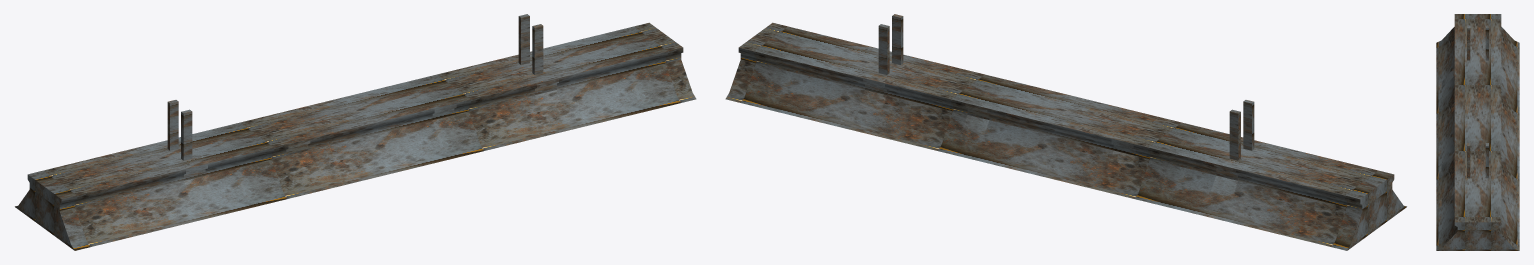
The model's file is Lamps.FBX.
3 views of the same model, side by side, from view 1: azimuth 30°, elevation 25°; view 2: azimuth 150°, elevation 25°; view 3: azimuth 270°, elevation 25° (orthographic). The views are drawn at different scales.
Visible parts, largest first — view 1: Box001; view 2: Box001; view 3: Box001.
Part boxes in pixels (bbox=[...]): Box001: bbox=[15, 14, 696, 250]; Box001: bbox=[725, 14, 1406, 250]; Box001: bbox=[1436, 14, 1519, 250].
Bounding box in the file's own units: 125 × 17.09 × 21.03.
1 material, 1 textured.
